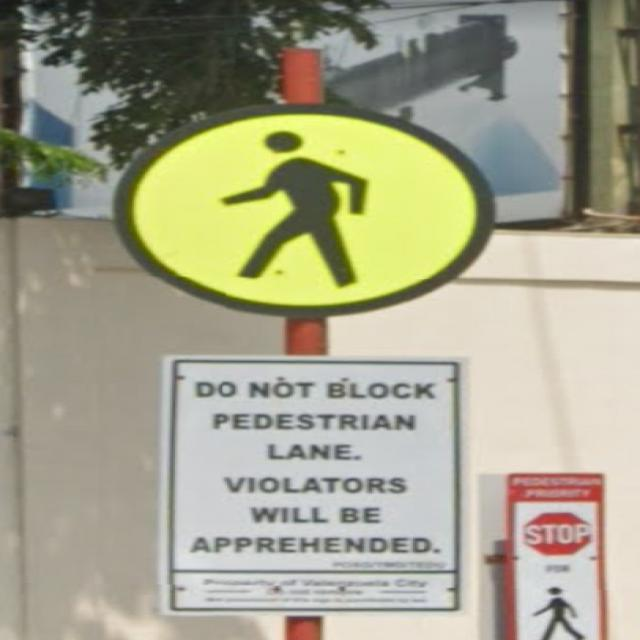pedestrian crossing: (114, 104, 497, 315)
